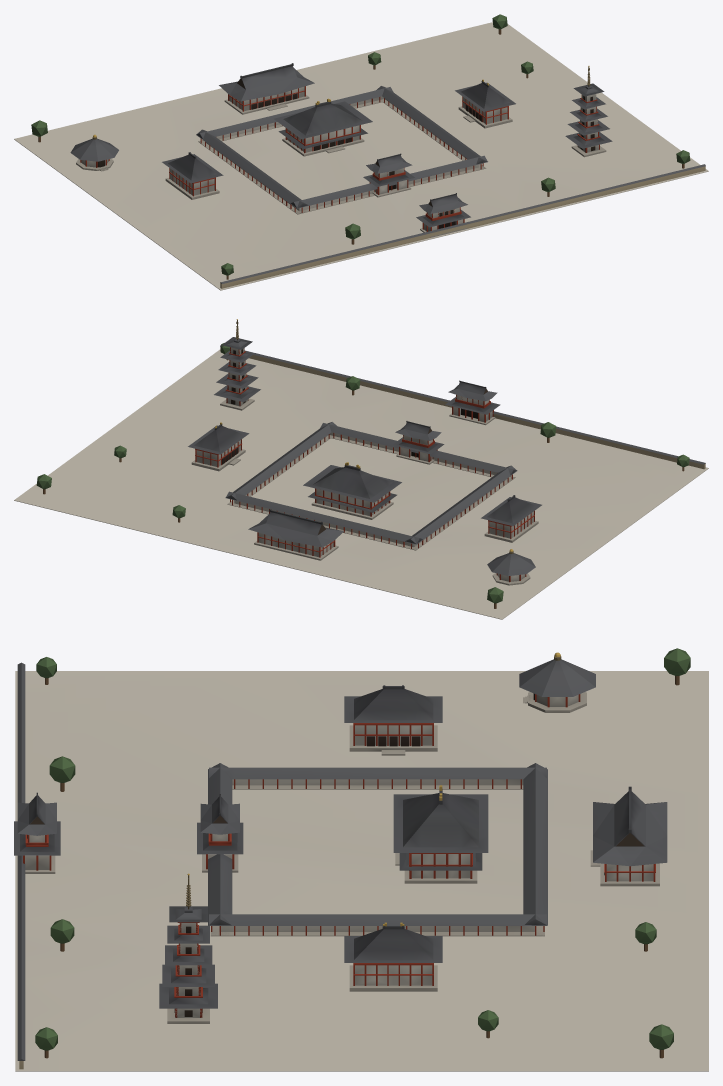
The model's file is kofukuji.glb.
3 renders of one model, top to bottom at view 1: azimuth 30°, elevation 25°; view 2: azimuth 150°, elevation 25°; view 3: azimuth 270°, elevation 25°, orthographic. The views are drawn at different scales.
Visible parts, largest first — view 1: p0_grounds, p1_halls, p2_pagoda; view 2: p0_grounds, p1_halls, p2_pagoda; view 3: p0_grounds, p1_halls, p2_pagoda.
Boxes of the visible parts, x1,y1,x2,y2 form: p0_grounds: (14,22,708,290); p1_halls: (70,86,512,237); p2_pagoda: (31,14,690,279); p0_grounds: (14,345,708,619); p1_halls: (191,394,538,585); p2_pagoda: (36,319,689,608); p0_grounds: (15,662,708,1071); p1_halls: (23,652,659,991); p2_pagoda: (14,648,690,1058).
Bounding box in the file's own units: 300 × 49.74 × 220.
